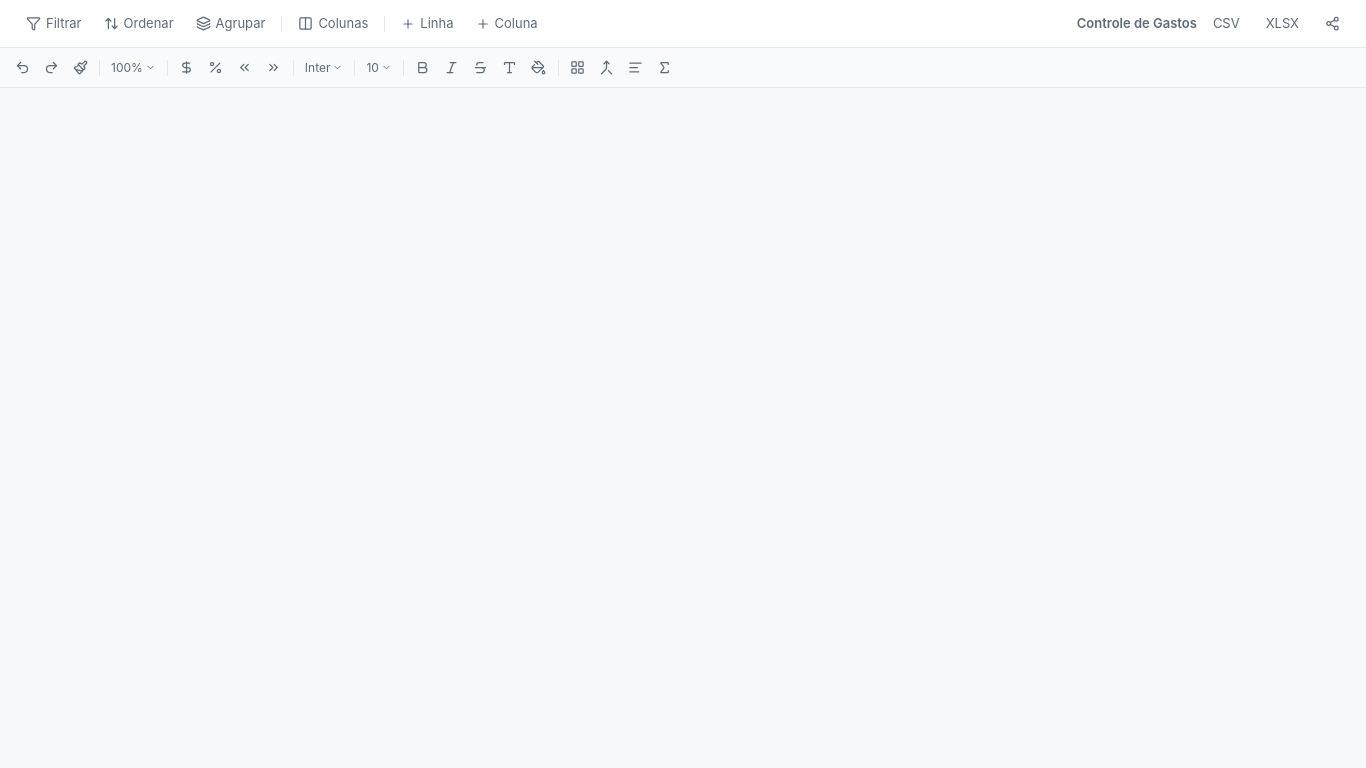
Test: TableGridPanel — Compartilhar (diálogo funcional) › clicar em Compartilhar abre diálogo com opção de copiar tabela como texto
The image size is (1366, 768).
Click the button titled "Compartilhar" at (1332, 24), box [1315,11,1350,36]
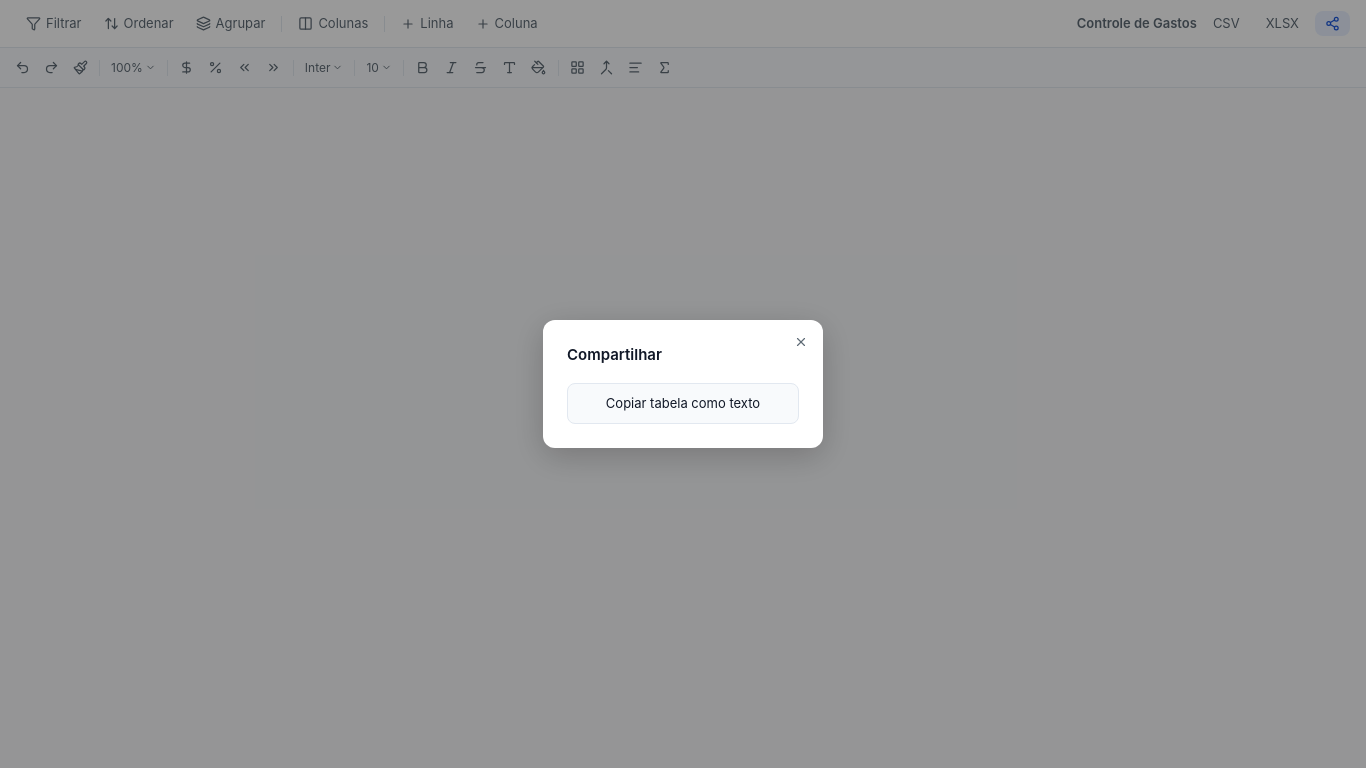
Check: the button "Copiar tabela como texto" is shown, box [567,382,799,424]
